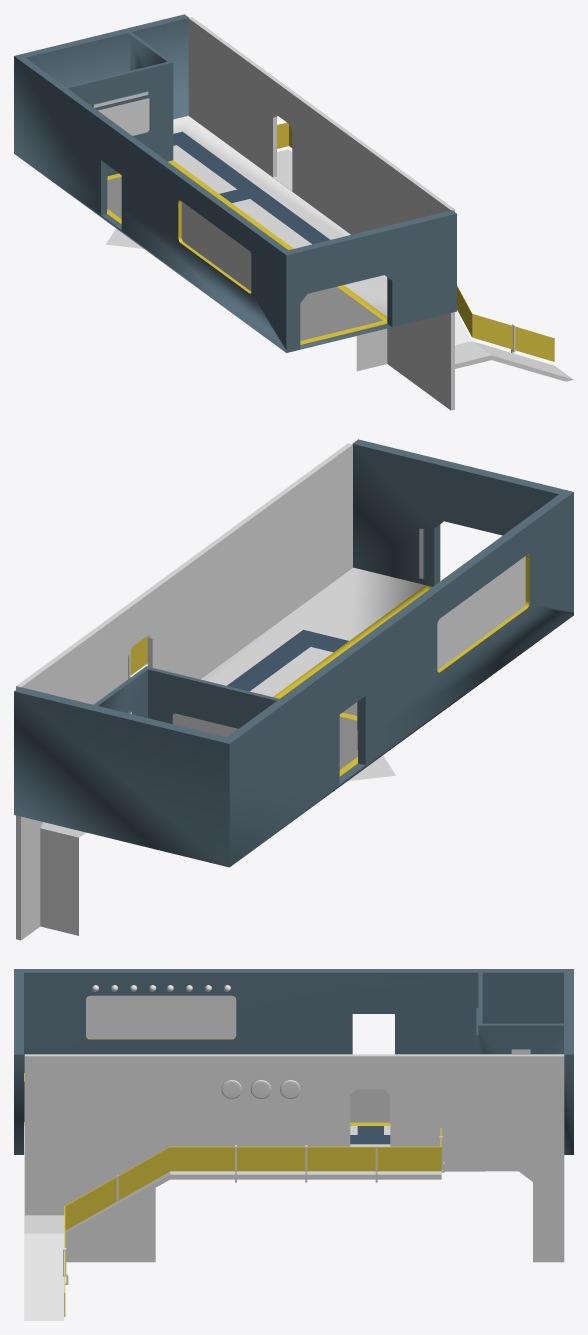
File: main_room+garage.fbx
The picture shows the model from 3 angles, top to bottom: view 1: azimuth 30°, elevation 25°; view 2: azimuth 150°, elevation 25°; view 3: azimuth 270°, elevation 25°; orthographic projection. The views are drawn at different scales.
Parts seen in each view (by area): view 1: Garage, muro_scalinata; view 2: Garage, muro_scalinata; view 3: muro_scalinata, Garage.
Part boxes in pixels (x1,y1,x2,y2): Garage: (14, 14, 456, 352); muro_scalinata: (106, 17, 573, 410); Garage: (14, 439, 573, 867); muro_scalinata: (16, 443, 395, 940); muro_scalinata: (24, 1054, 564, 1320); Garage: (14, 969, 573, 1154).
Size of the model in its own units: 633 by 388 by 956.
